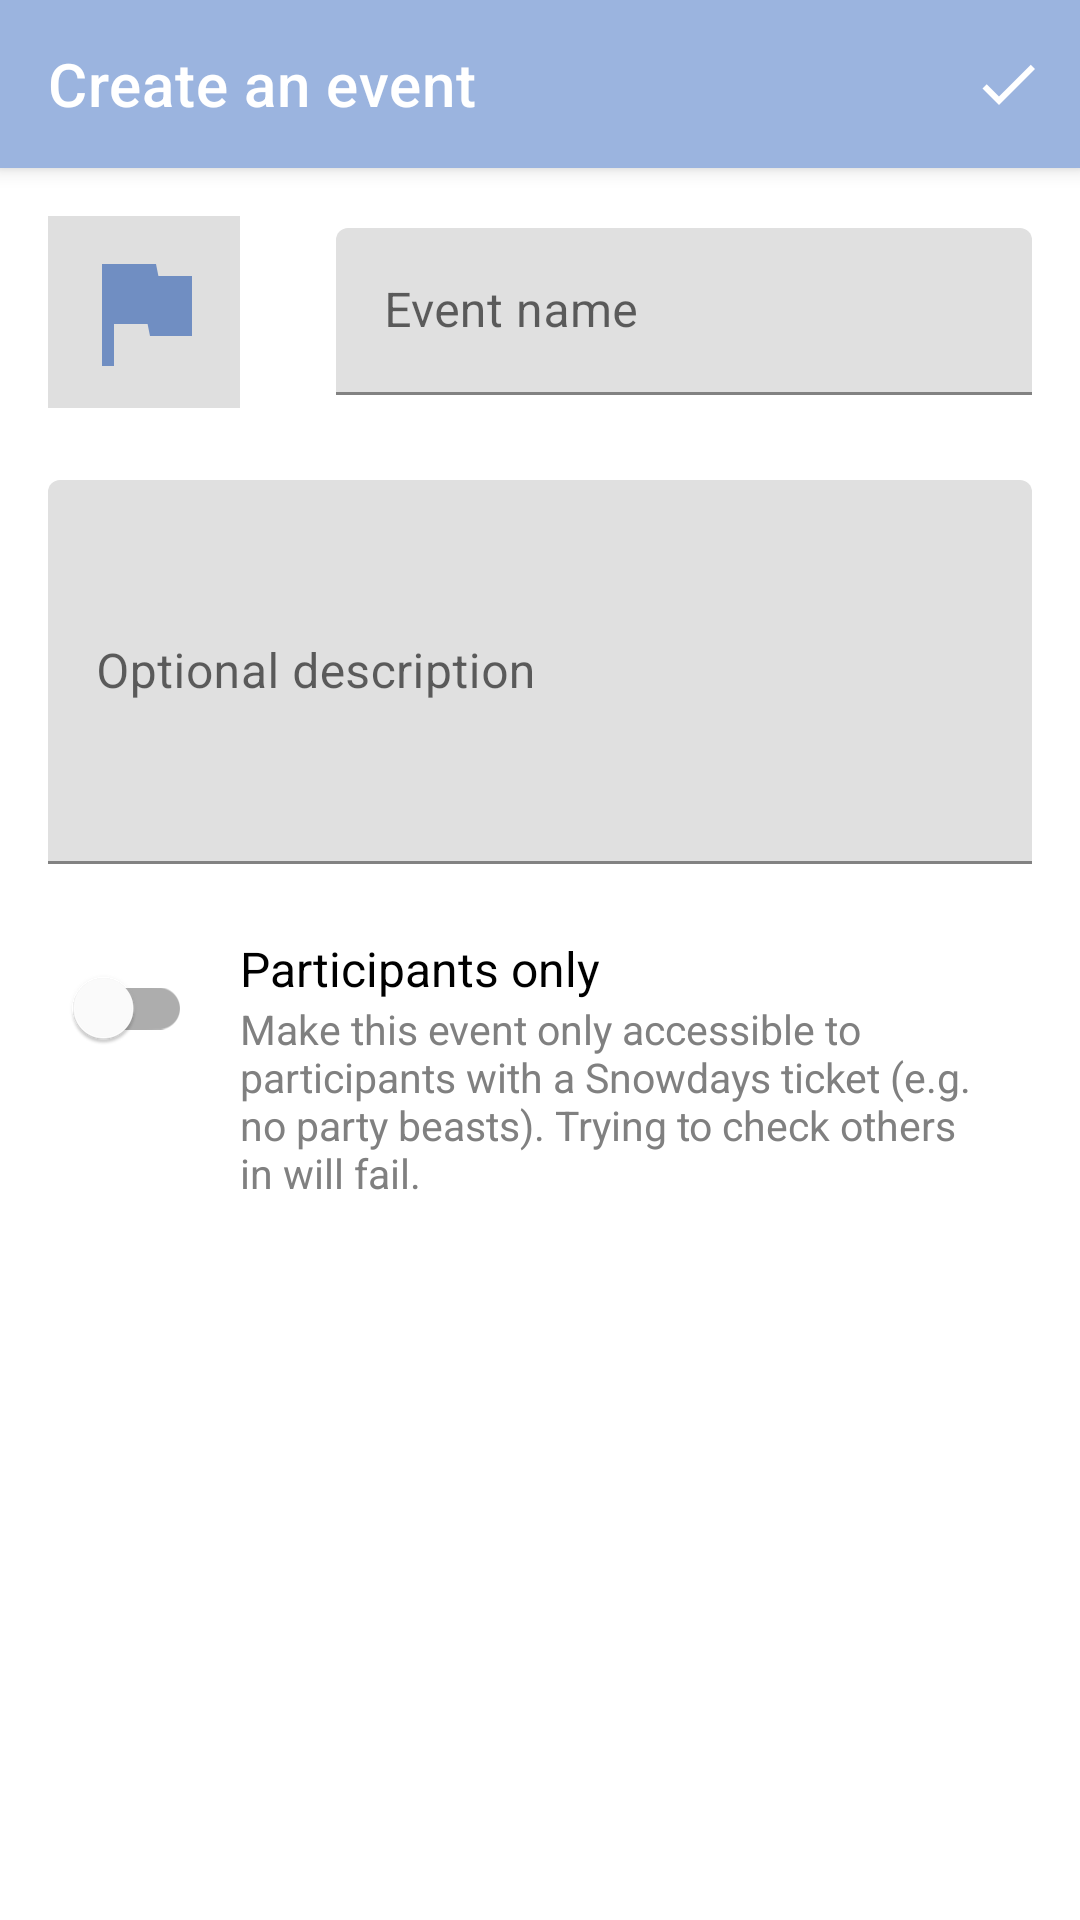

Named icons in this screenshot (1080w x 1920h) and their centers, [x,y]:
Icon assigned to the event being created: [144,312]
